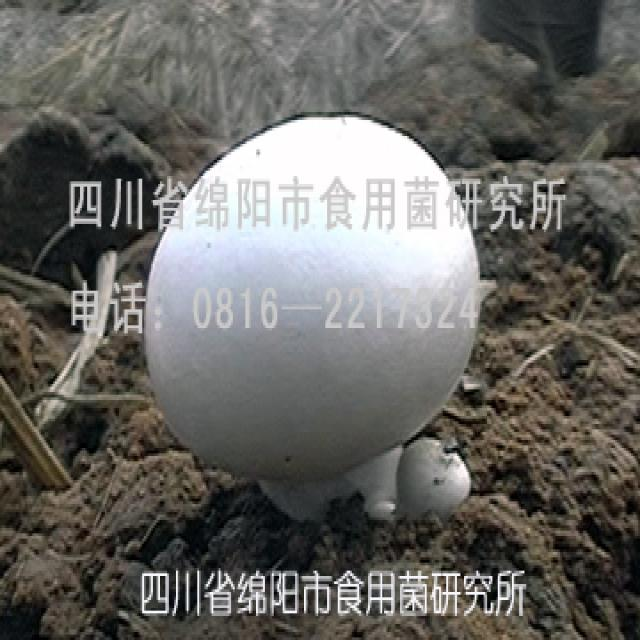Agaricus bisporus: (142, 116, 490, 520)
